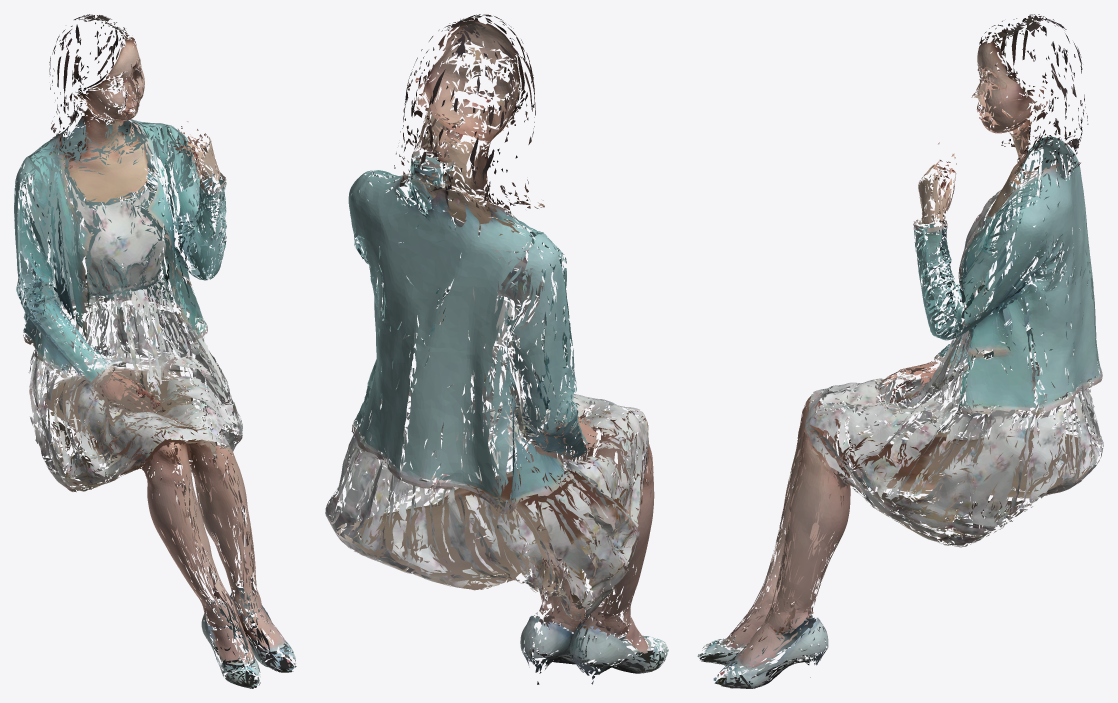
File: person-standing-9.glb
3 renders of one model, left to right at view 1: azimuth 30°, elevation 25°; view 2: azimuth 150°, elevation 25°; view 3: azimuth 270°, elevation 25°, orthographic. The views are drawn at different scales.
Visible parts, largest first — view 1: Object_0; view 2: Object_0; view 3: Object_0.
Part boxes in pixels (left/top/right/bottom): Object_0: left=14, top=14, right=296, bottom=688; Object_0: left=325, top=14, right=668, bottom=684; Object_0: left=697, top=14, right=1103, bottom=688.
Bounding box in the file's own units: 0.5303 × 1.65 × 0.9577.
Materials: 1 (1 with a texture image).
